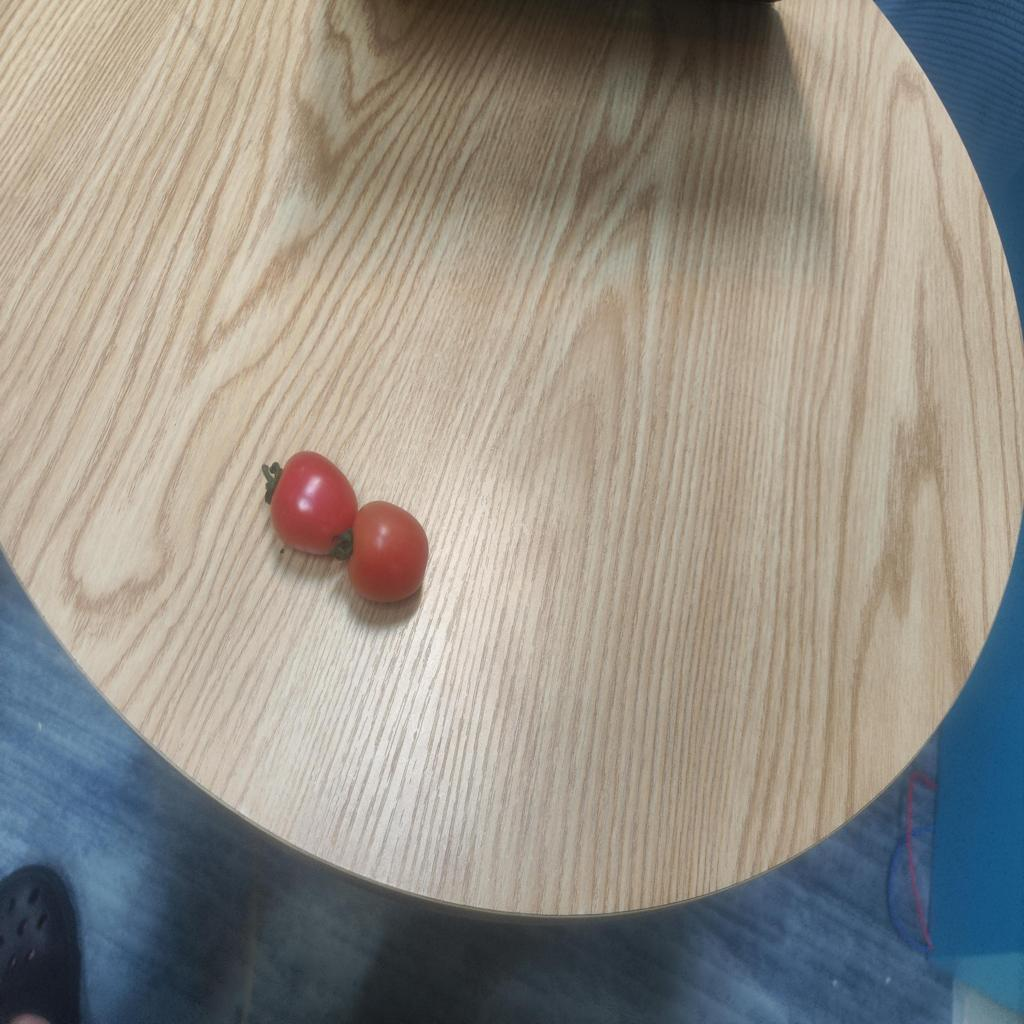tomato: (266, 454, 363, 556), (338, 504, 426, 607)
